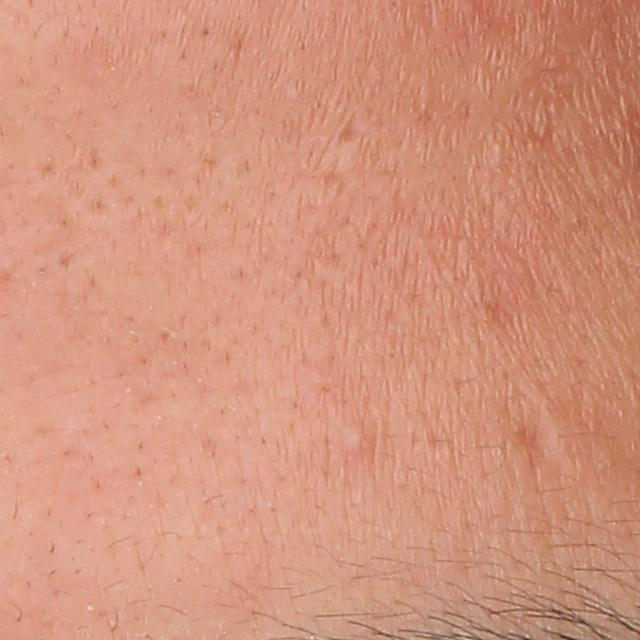atrophic_scar: (340, 111, 371, 142)
comedo: (339, 422, 376, 454)
